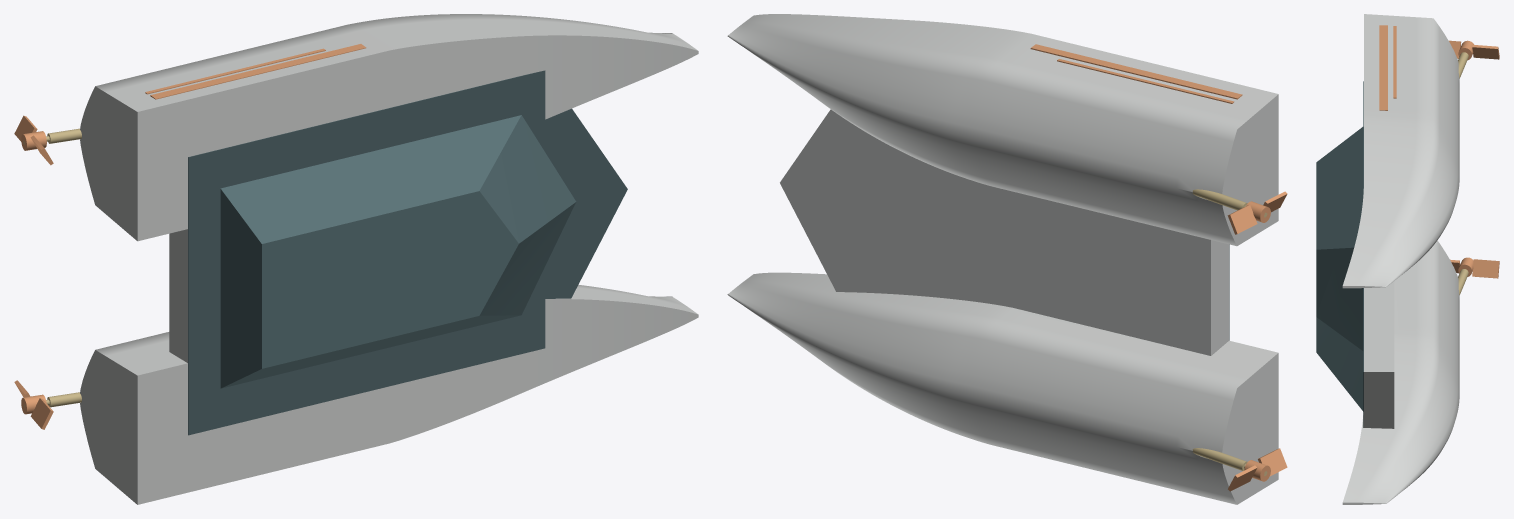
Rendered from CAT24_render.glb.
3 views of the same model, side by side, from view 1: azimuth 30°, elevation 25°; view 2: azimuth 150°, elevation 25°; view 3: azimuth 270°, elevation 25° (orthographic). The views are drawn at different scales.
Visible parts, largest first — view 1: Body, Canopy, DeckPanel, Glass, Stripes, Props, Shafts; view 2: Body, Props, Stripes, Shafts; view 3: Body, Canopy, Glass, Props, Stripes, Shafts, DeckPanel.
Part boxes in pixels (x1,y1,x2,y2): Body: (80,14,698,504); Canopy: (220,115,521,388); DeckPanel: (188,70,627,435); Glass: (479,115,576,315); Stripes: (145,44,366,99); Props: (14,115,53,429); Shafts: (23,128,81,408); Body: (727,14,1278,504); Props: (1227,191,1287,491); Stripes: (1030,44,1242,103); Shafts: (1192,189,1267,475); Body: (1342,14,1459,504); Canopy: (1316,127,1363,315); Glass: (1316,247,1363,411); Props: (1449,40,1499,278); Stripes: (1379,25,1396,110); Shafts: (1458,52,1468,294); DeckPanel: (1363,81,1363,427).
Bounding box in the file's own units: 262 × 164 × 84.45.
